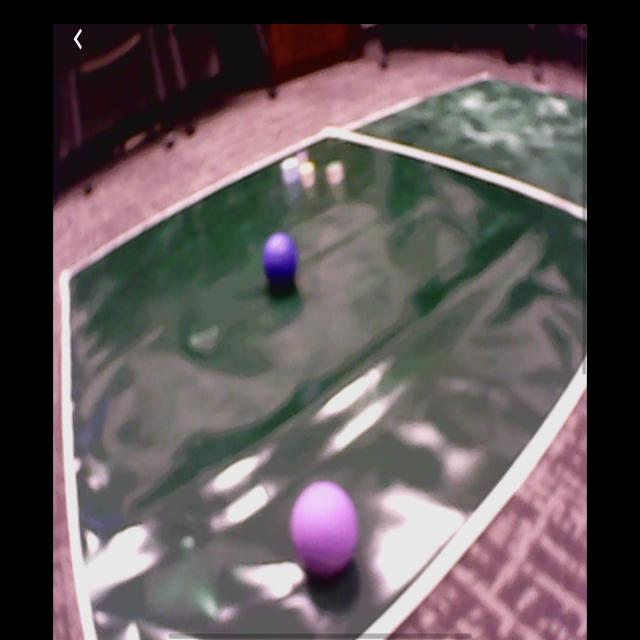ball: (291, 479, 358, 577), (264, 232, 298, 284)
